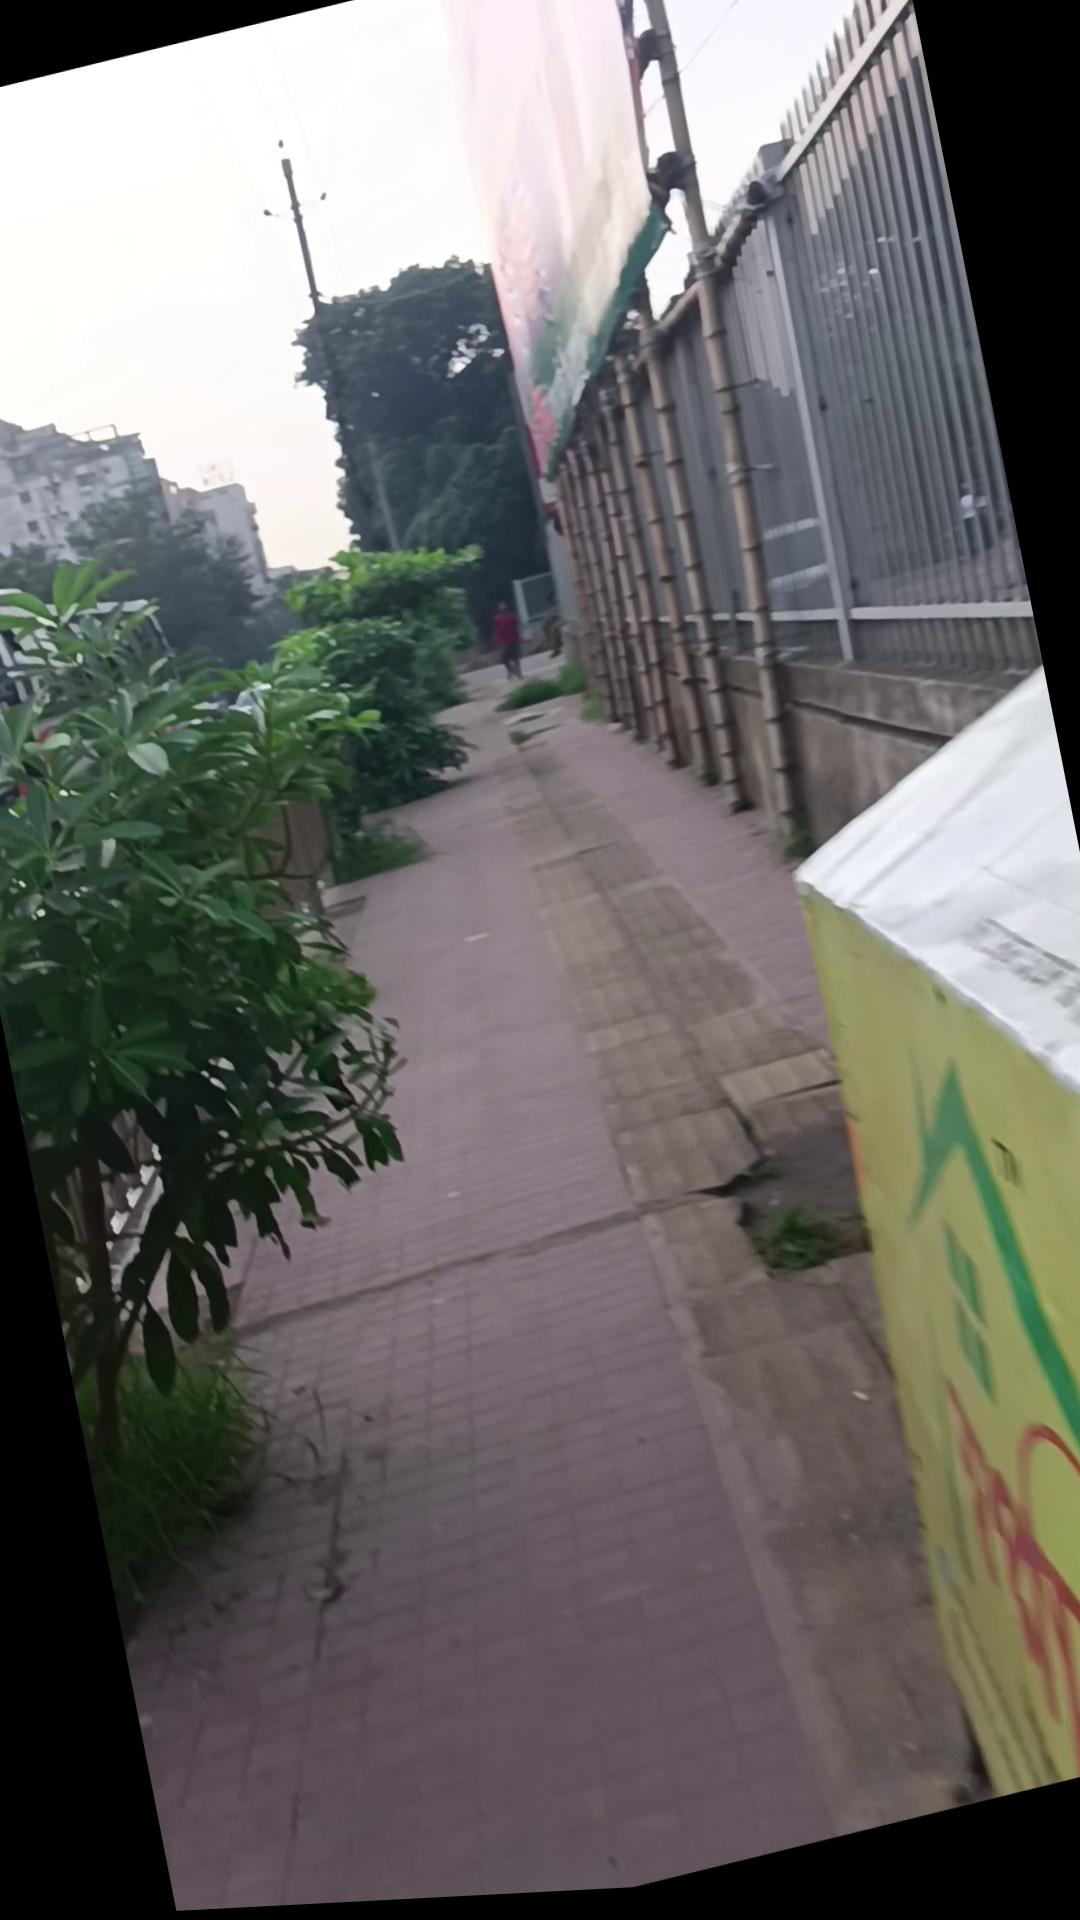Muddy road: (485, 603, 529, 688), (535, 596, 568, 666)
Obstacle: (603, 0, 835, 873)
Potted-plant: (0, 589, 989, 1920)
